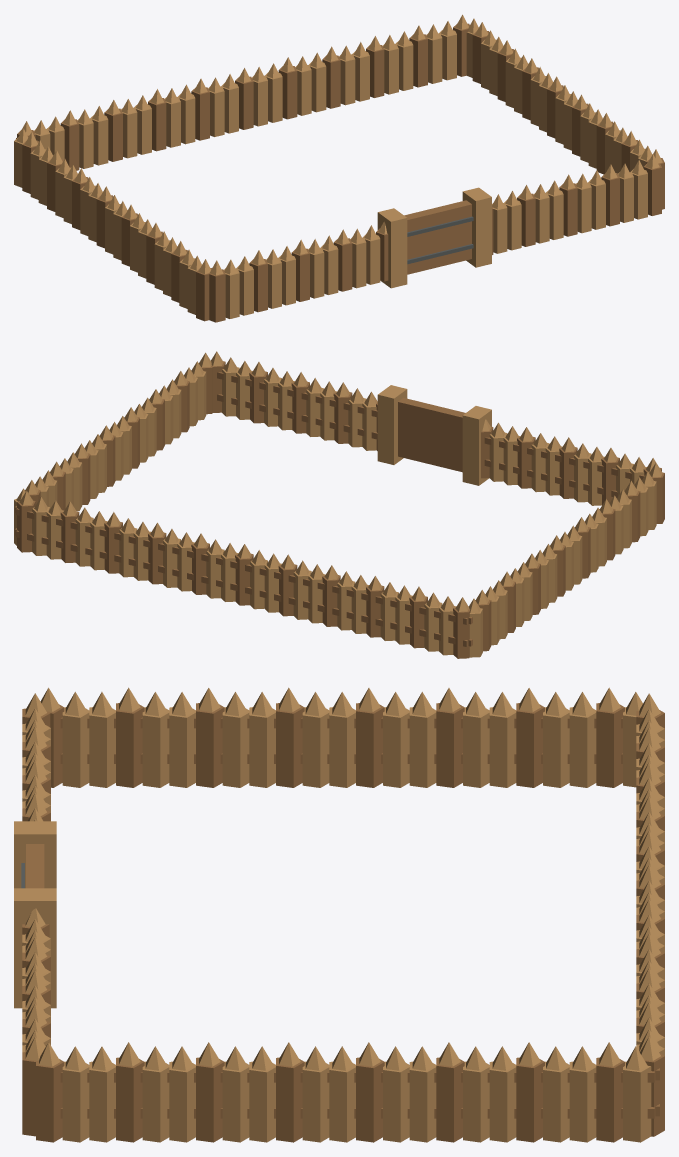
File: remparts_t1.glb
The picture shows the model from 3 angles, top to bottom: view 1: azimuth 30°, elevation 25°; view 2: azimuth 150°, elevation 25°; view 3: azimuth 270°, elevation 25°; orthographic projection. The views are drawn at different scales.
Parts seen in each view (by area): view 1: rempart-arriere, rempart-gauche, rempart-droite, rempart-avant-gauche, rempart-avant-droite, rempart-porte, Pilier_porte, Pilier_porte.001; view 2: rempart-arriere, rempart-gauche, rempart-droite, rempart-avant-droite, rempart-avant-gauche, rempart-porte, Pilier_porte.001, Pilier_porte; view 3: rempart-droite, rempart-gauche, rempart-arriere, rempart-avant-droite, rempart-avant-gauche, Pilier_porte.001, Pilier_porte, rempart-porte.
Part boxes in pixels (x1,y1,x2,y2): rempart-arriere: (16,14,469,170); rempart-gauche: (14,128,211,321); rempart-droite: (466,18,664,209); rempart-avant-gauche: (208,221,388,322); rempart-avant-droite: (492,154,661,254); rempart-porte: (404,200,471,274); Pilier_porte: (377,208,407,288); Pilier_porte.001: (462,187,491,267); rempart-arriere: (16,490,470,658); rempart-gauche: (468,463,664,657); rempart-droite: (14,352,212,545); rempart-avant-droite: (211,351,377,450); rempart-avant-gauche: (481,419,661,505); rempart-porte: (398,397,465,472); Pilier_porte.001: (377,385,407,464); Pilier_porte: (462,406,491,485); rempart-droite: (36,1042,654,1142); rempart-gauche: (40,687,642,787); rempart-arriere: (636,693,664,1136); rempart-avant-droite: (22,908,50,1136); rempart-avant-gauche: (22,693,50,821); Pilier_porte.001: (14,888,56,1008); Pilier_porte: (14,821,56,888); rempart-porte: (26,844,44,888).
Size of the model in its own units: 2.86 by 0.39 by 2.14.
